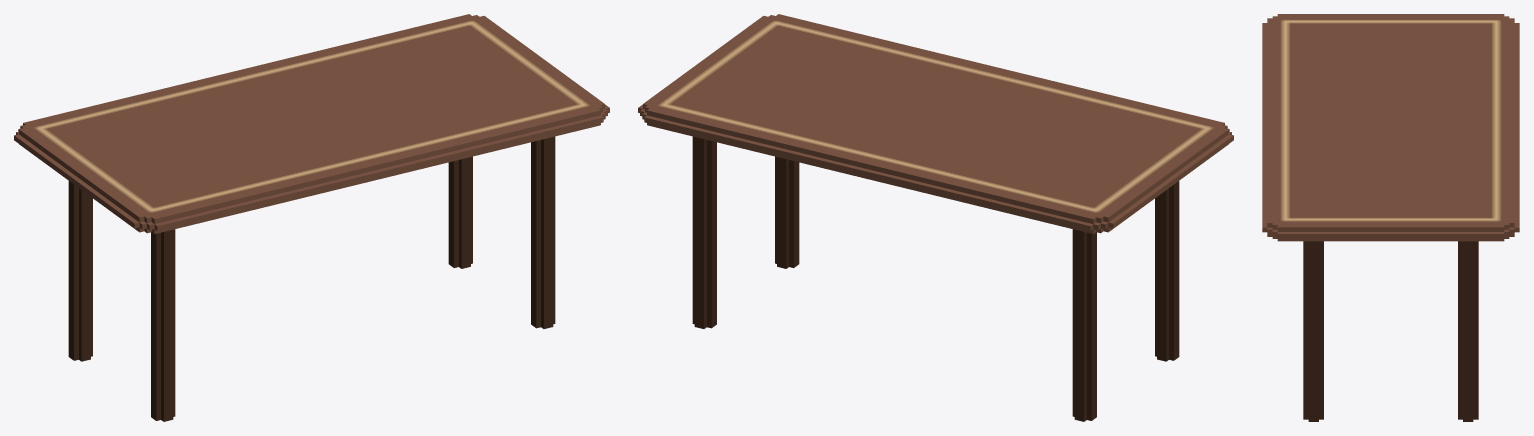
Rendered from LargeObject_Table.fbx.
The picture shows the model from 3 angles, left to right: view 1: azimuth 30°, elevation 25°; view 2: azimuth 150°, elevation 25°; view 3: azimuth 270°, elevation 25°; orthographic projection. The views are drawn at different scales.
Parts seen in each view (by area): view 1: Table; view 2: Table; view 3: Table.
Part boxes in pixels (<box>): Table: <box>14,14,609,421</box>; Table: <box>638,14,1233,421</box>; Table: <box>1262,14,1519,421</box>.
Size of the model in its own units: 100 by 45 by 50.
